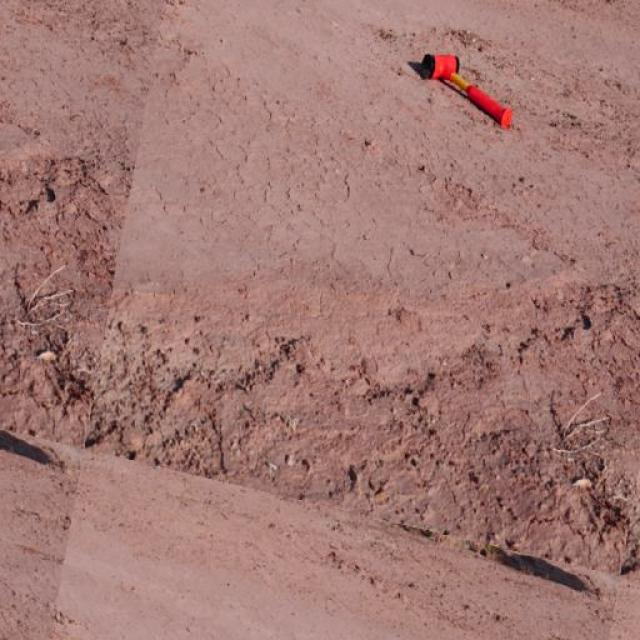mallet: (418, 51, 512, 129)
